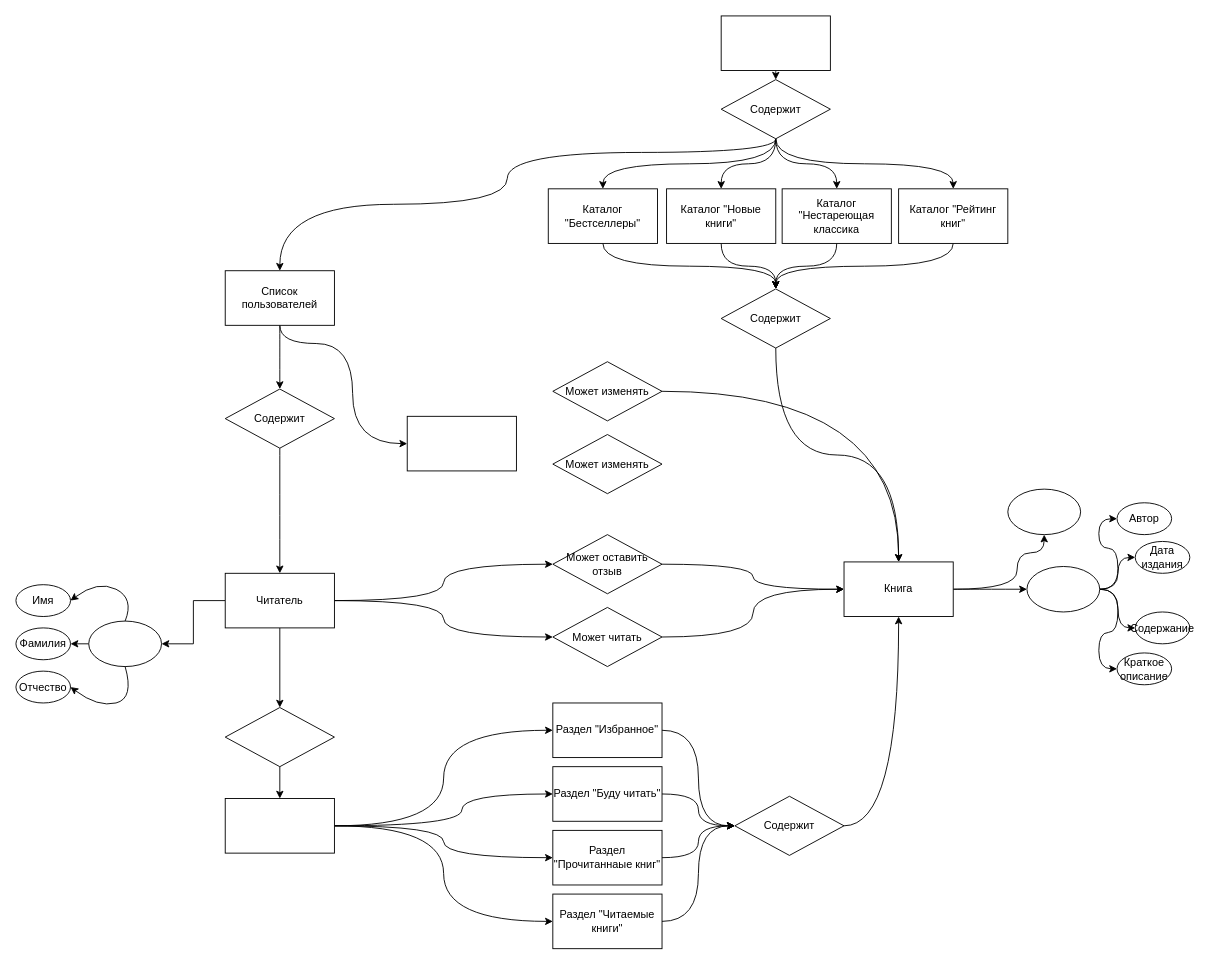
This 1210x965 diagram has some shape labels left out. Here are the shapes that lost their labels. From the top down, the box of each, then its label:
(720, 15, 830, 71): Публичная библиотека
(406, 415, 516, 471): Администратор
(1007, 488, 1081, 535): Текст
(1026, 566, 1100, 612): Сводная информация
(88, 620, 162, 667): ФИО
(224, 707, 334, 767): Имеет доступ
(224, 798, 334, 853): Личный кабинет
